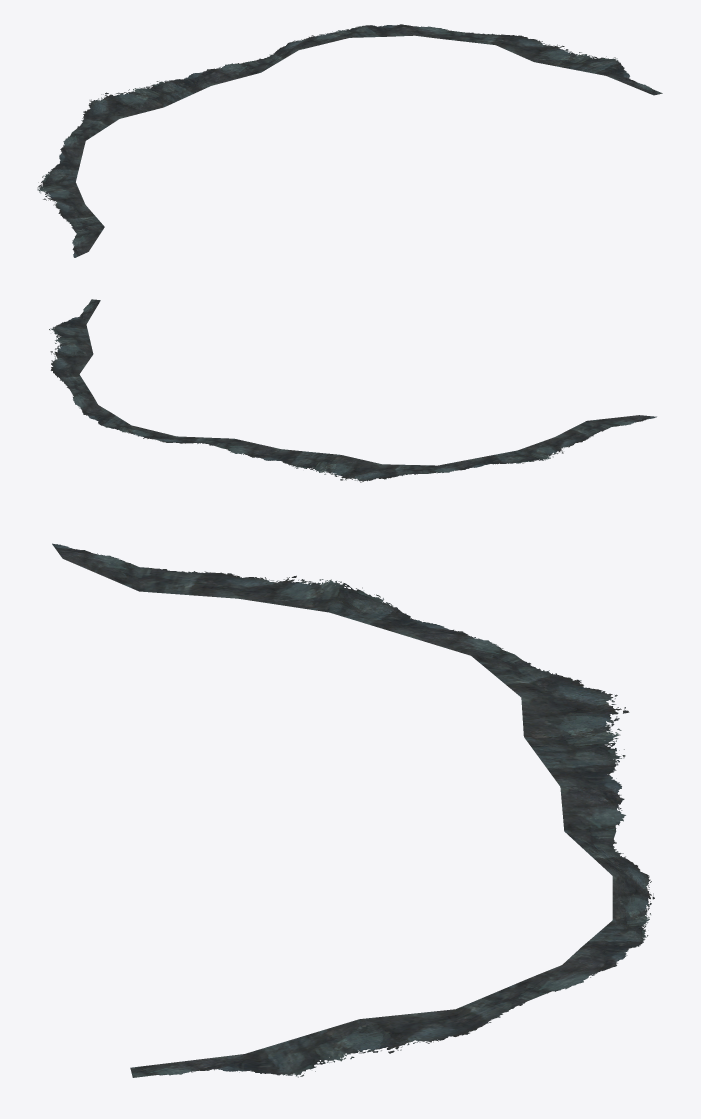
Rendered from blend_weeds17.fbx.
The picture shows the model from 3 angles, top to bottom: view 1: azimuth 30°, elevation 25°; view 2: azimuth 150°, elevation 25°; view 3: azimuth 270°, elevation 25°; orthographic projection. The views are drawn at different scales.
Visible parts, largest first — view 1: obj0.038; view 2: obj0.038; view 3: obj0.038.
Part boxes in pixels (box(x1,y1,x2,y2)): obj0.038: box(37, 24, 662, 257); obj0.038: box(49, 299, 656, 482); obj0.038: box(52, 543, 654, 1077).
Bounding box in the file's own units: 32.5 × 0.1522 × 15.
